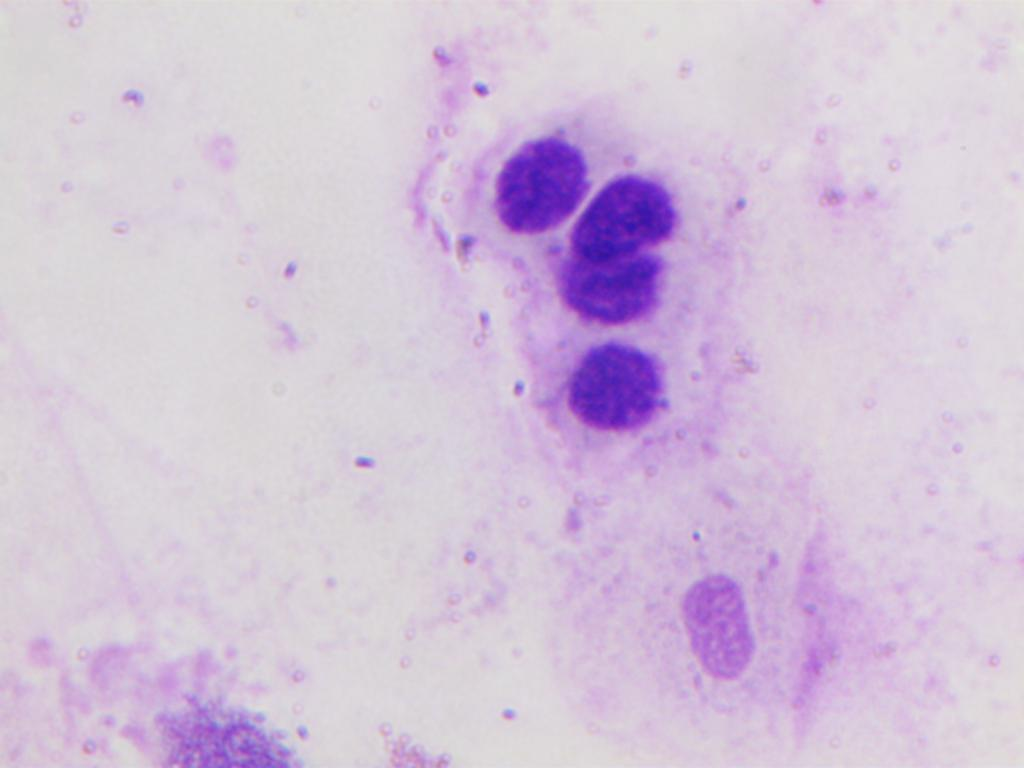epithelial: (530, 171, 718, 281), (473, 110, 594, 239), (557, 330, 678, 458), (671, 556, 765, 697), (552, 249, 668, 331)
